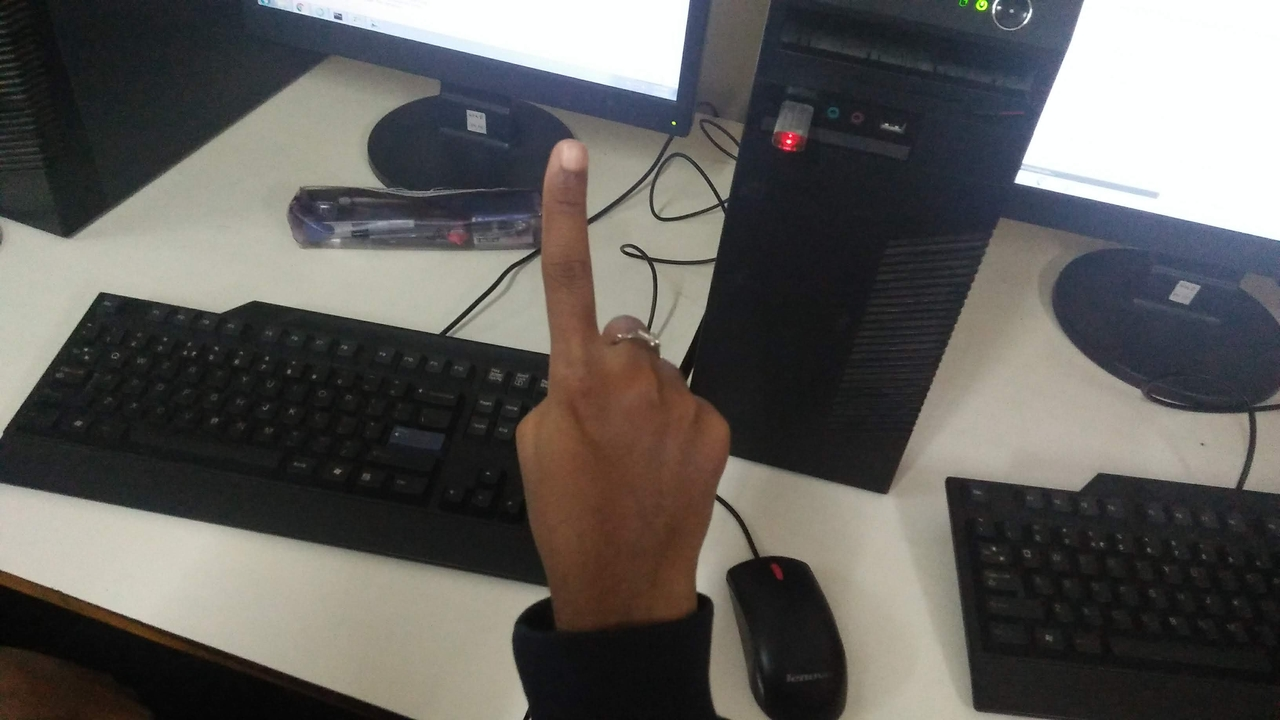fingertip: (536, 126, 598, 186)
